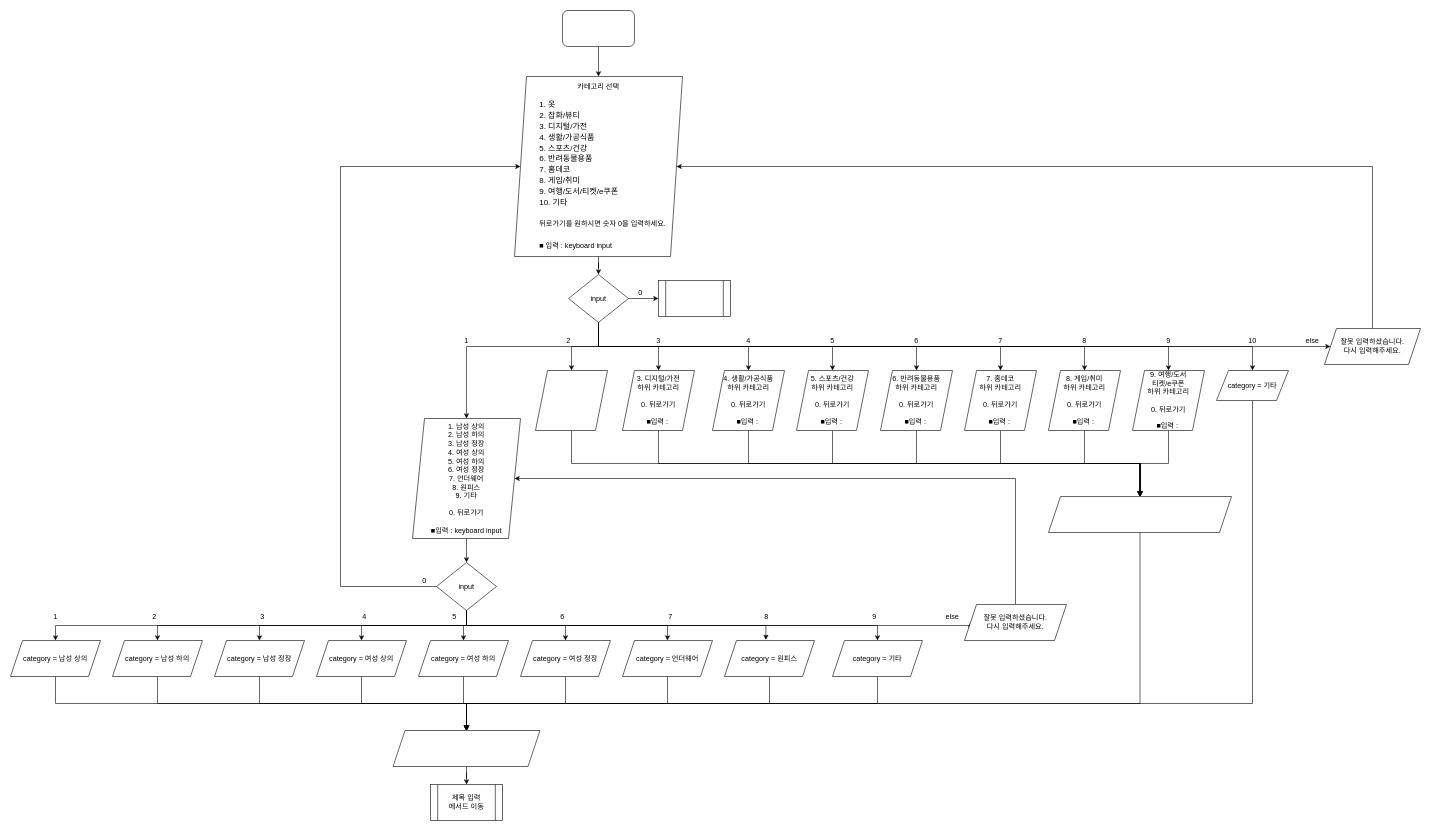
This 1431x831 diagram has some shape labels left out. The box of each missing label's shape, as (x1, y1, x2, y2) in pixels:
2. 잡화/뷰티 하위 카테고리 0. 뒤로가기 ■입력 :: (535, 370, 608, 430)
3-1. 상품등록 메서드 이동: (658, 280, 730, 316)
category = (input)에 해당하는 하위 카테고리: (1048, 496, 1232, 532)
카테고리 선택 메서드 진입: (562, 10, 634, 46)
카테고리에 category 입력되었습니다. 계속하시려면 엔터를 눌러주세요.: (392, 730, 540, 766)
